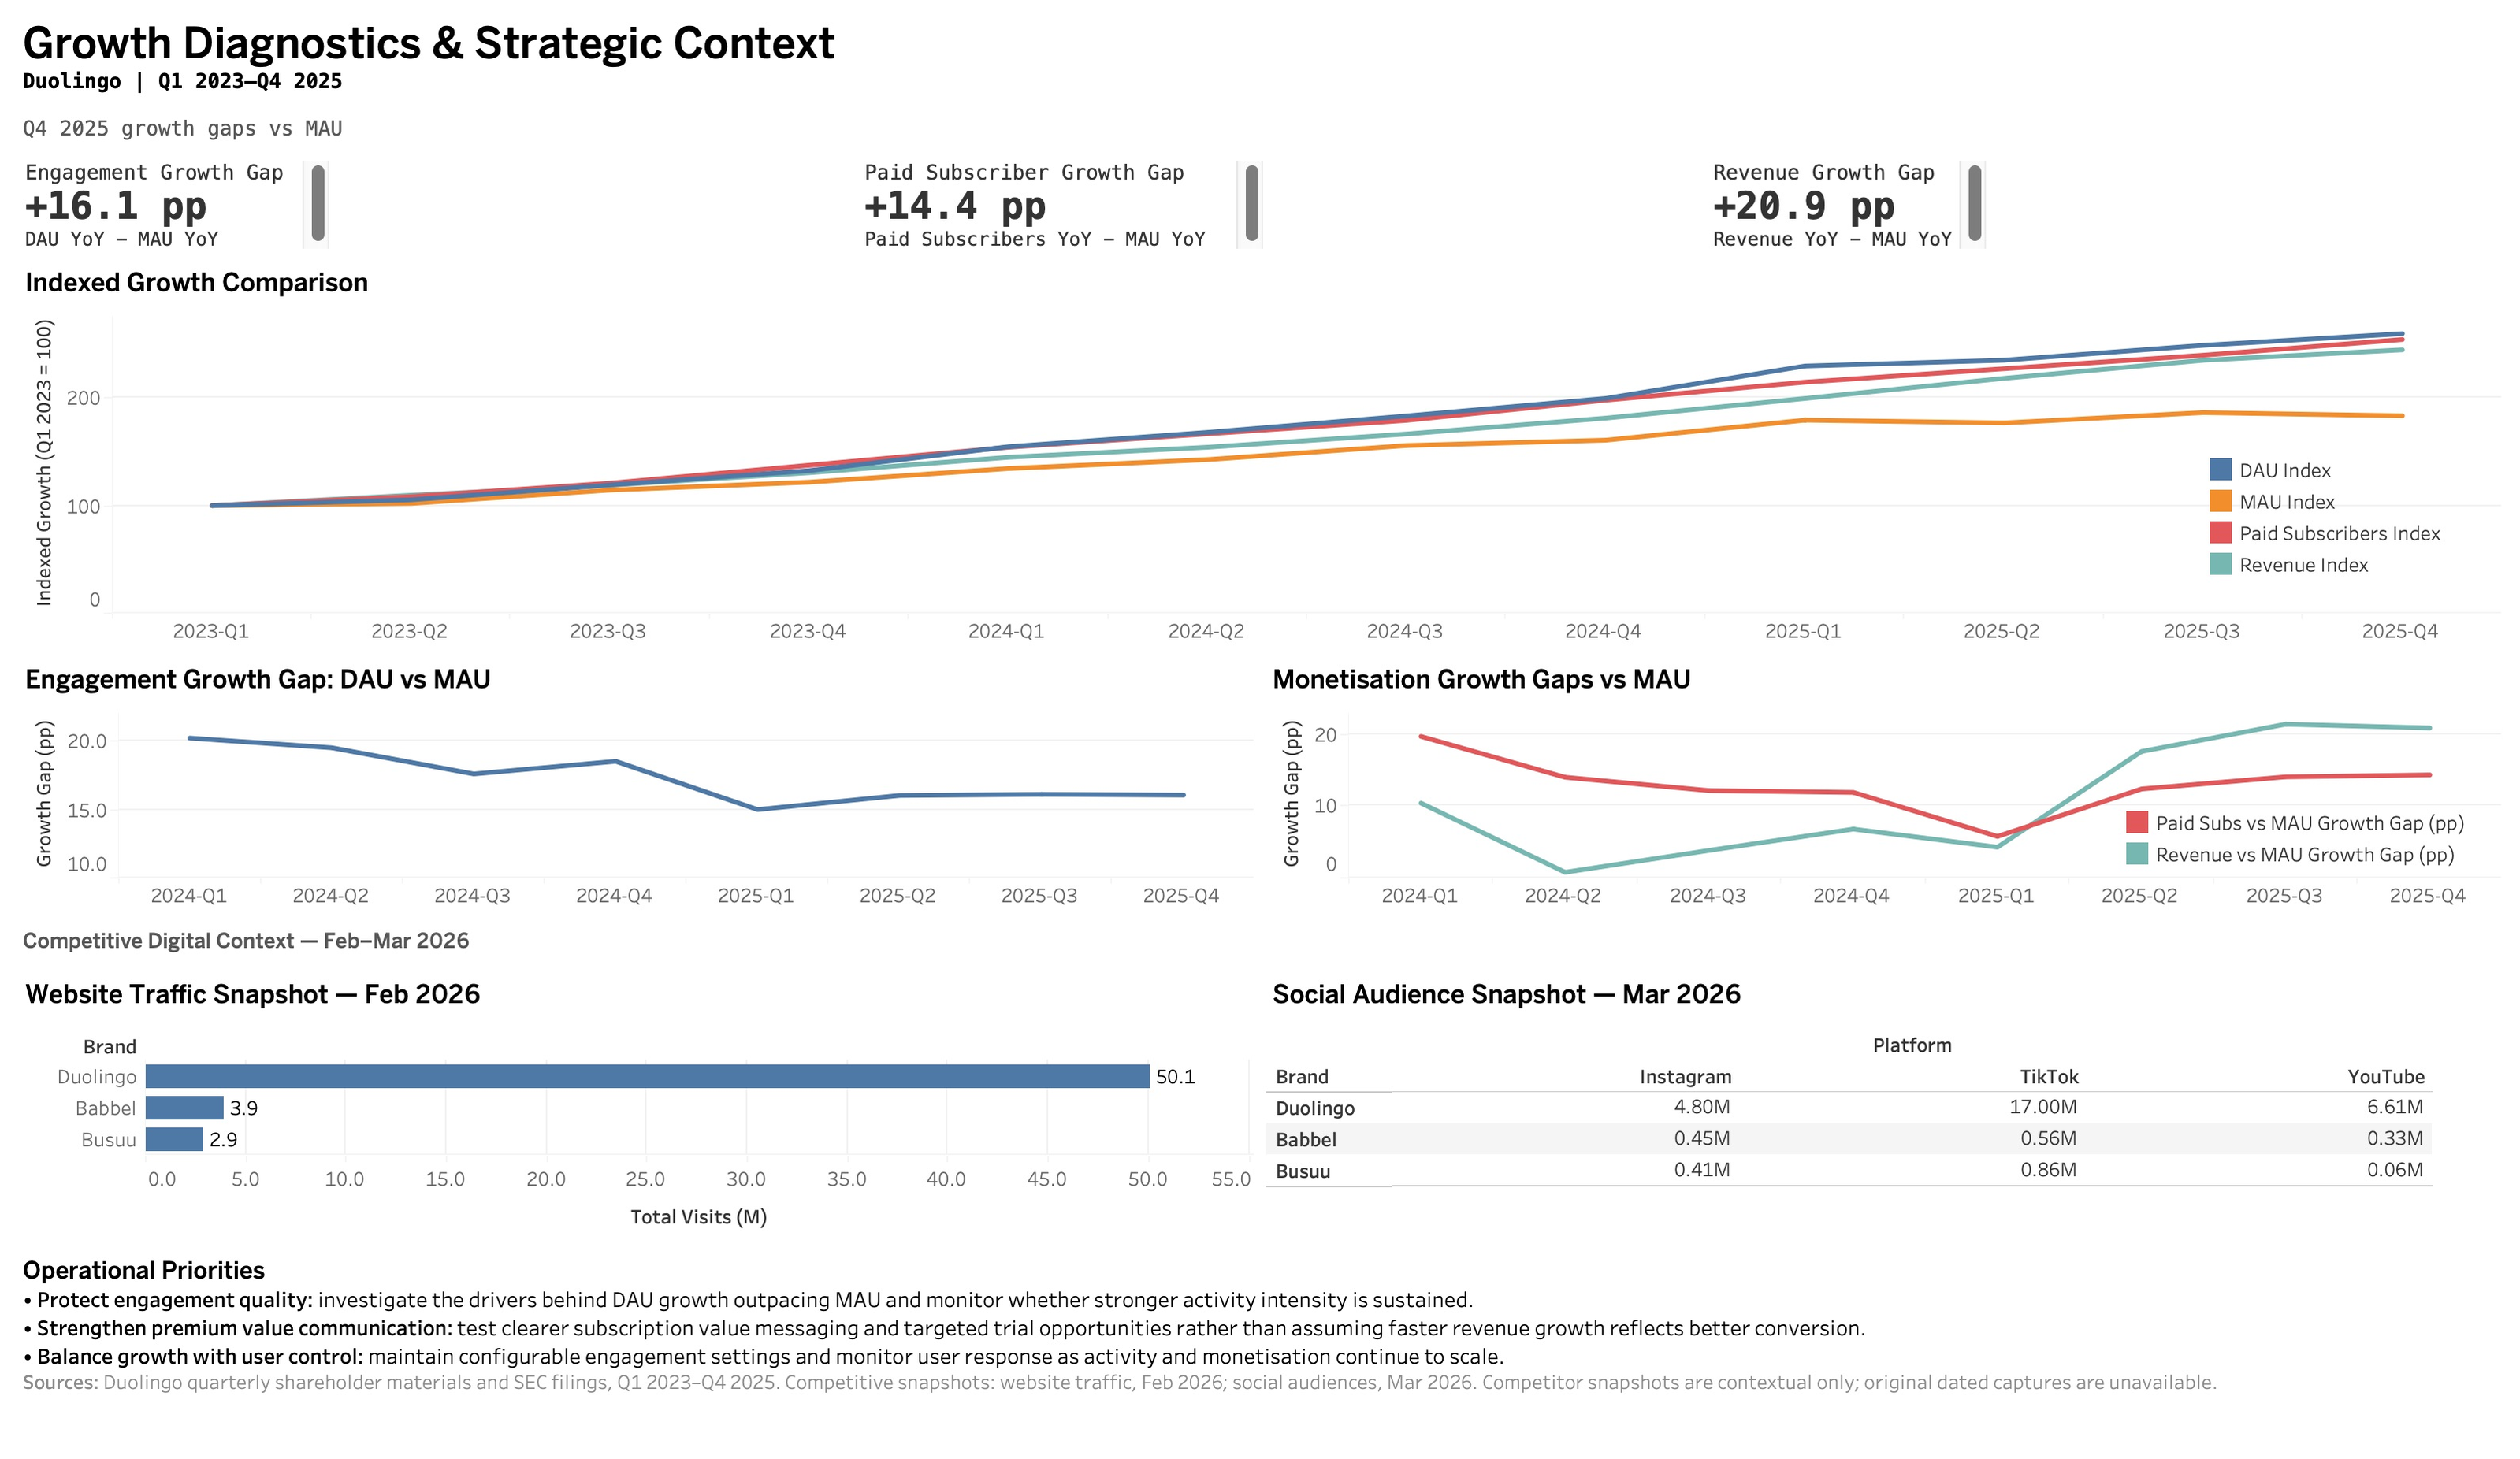

The dashboard page shown, as its layout file describes it:
{"tool":"tableau","page":{"name":"P2_Growth_Diagnostics_Strategic_Context","canvas":[1600,900],"ordinal":1},"visuals":[{"type":"text","box":[8,8,1584,59]},{"type":"text","box":[8,67,1584,32]},{"type":"worksheet","title":"P2_KPI_Engagement_Gap","mark":"Text","box":[8,99,533,66.3]},{"type":"worksheet","title":"P2_KPI_Paid_Gap","mark":"Text","box":[541,99,539,66.3]},{"type":"worksheet","title":"P2_KPI_Revenue_Gap","mark":"Text","box":[1080,99,512,66.3]},{"type":"worksheet","title":"P2_Indexed_Growth","mark":"Line","cols":["quarter"],"box":[8,165.3,1584,235.7]},{"type":"legend","title":"P2_Indexed_Growth","param":"[federated.0jt0x5t01npk2f1ep1lkd0manp0u].[:Measure Names]","box":[1400,289,154,98]},{"type":"worksheet","title":"P2_Engagement_Gap","mark":"Line","rows":["Calculation_2474508048723976"],"cols":["quarter"],"box":[8,401,792,182]},{"type":"worksheet","title":"P2_Monetisation_Gaps","mark":"Line","cols":["quarter"],"box":[800,401,792,182]},{"type":"legend","title":"P2_Monetisation_Gaps","param":"[federated.0jt0x5t01npk2f1ep1lkd0manp0u].[:Measure Names]","box":[1347,513,223,58]},{"type":"text","box":[8,583,1584,32]},{"type":"worksheet","title":"P2_Web_Competitive_Snapshot","mark":"Bar","rows":["brand"],"cols":["total_visits_m"],"box":[8,615,792,179]},{"type":"worksheet","title":"P2_Social_Competitive_Snapshot","mark":"Text","rows":["brand"],"cols":["platform"],"box":[800,615,792,179]},{"type":"text","box":[8,794,1584,98]}]}

Visuals, with their boxes in screenshot pixels (x1, y1, x2, y2), scaled from the page's 1600x900 canvas onto the 2520x1459 screenshot:
text: (x1=13, y1=13, x2=2507, y2=109)
text: (x1=13, y1=109, x2=2507, y2=161)
"P2_KPI_Engagement_Gap" worksheet (Text marks): (x1=13, y1=161, x2=852, y2=268)
"P2_KPI_Paid_Gap" worksheet (Text marks): (x1=852, y1=161, x2=1701, y2=268)
"P2_KPI_Revenue_Gap" worksheet (Text marks): (x1=1701, y1=161, x2=2507, y2=268)
"P2_Indexed_Growth" worksheet (Line marks): (x1=13, y1=268, x2=2507, y2=650)
"P2_Indexed_Growth" legend: (x1=2205, y1=469, x2=2448, y2=627)
"P2_Engagement_Gap" worksheet (Line marks): (x1=13, y1=650, x2=1260, y2=945)
"P2_Monetisation_Gaps" worksheet (Line marks): (x1=1260, y1=650, x2=2507, y2=945)
"P2_Monetisation_Gaps" legend: (x1=2121, y1=832, x2=2473, y2=926)
text: (x1=13, y1=945, x2=2507, y2=997)
"P2_Web_Competitive_Snapshot" worksheet (Bar marks): (x1=13, y1=997, x2=1260, y2=1287)
"P2_Social_Competitive_Snapshot" worksheet (Text marks): (x1=1260, y1=997, x2=2507, y2=1287)
text: (x1=13, y1=1287, x2=2507, y2=1446)
